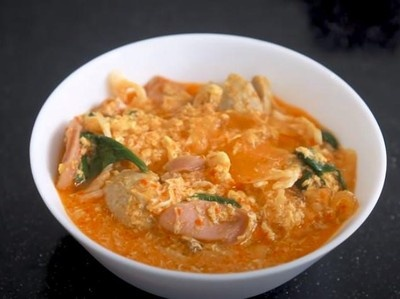seblak: (57, 73, 361, 273)
